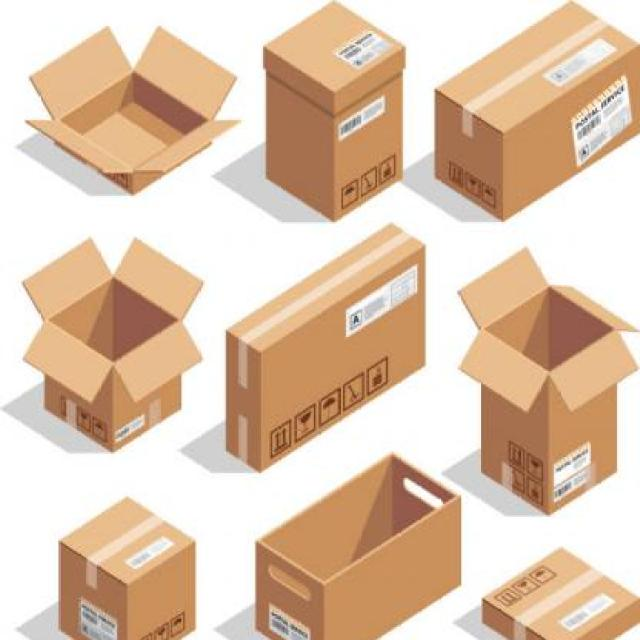box: (446, 229, 640, 520), (218, 221, 428, 472), (5, 231, 203, 475), (427, 12, 639, 238), (249, 447, 471, 640), (2, 28, 241, 204), (250, 3, 418, 227), (40, 483, 206, 640), (477, 543, 638, 640)
